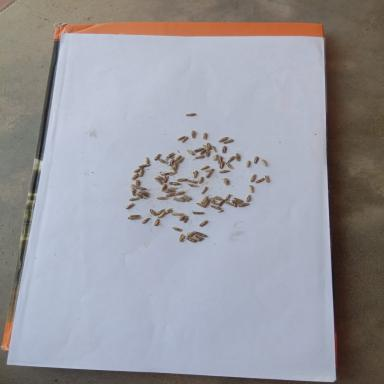pbw: (200, 195, 209, 204), (158, 170, 174, 175), (195, 231, 207, 237), (127, 214, 141, 219), (153, 177, 163, 184), (124, 202, 134, 209), (130, 172, 138, 180), (178, 233, 185, 242), (186, 230, 195, 237), (249, 173, 256, 182), (186, 236, 196, 242), (130, 187, 136, 197), (138, 167, 144, 177), (164, 188, 176, 193), (191, 210, 205, 214), (167, 181, 181, 185), (225, 162, 233, 169), (154, 153, 162, 160), (222, 177, 229, 185), (232, 197, 243, 202), (128, 196, 139, 201), (140, 190, 149, 196), (224, 200, 233, 206), (160, 183, 166, 192), (255, 177, 264, 183), (183, 194, 192, 200), (156, 208, 165, 214), (213, 194, 222, 200), (141, 217, 150, 223), (171, 212, 184, 216), (218, 136, 228, 141), (165, 207, 172, 214), (201, 186, 207, 194), (156, 196, 168, 200), (198, 176, 204, 184), (150, 208, 156, 216), (202, 132, 208, 140), (199, 220, 207, 226), (216, 156, 222, 164), (182, 215, 188, 223), (157, 212, 165, 218), (221, 145, 227, 153), (218, 169, 230, 173), (133, 166, 141, 172), (212, 153, 218, 161), (176, 178, 188, 182), (172, 197, 184, 201), (210, 197, 216, 205), (158, 158, 166, 164), (190, 130, 196, 138), (210, 144, 216, 152), (154, 217, 159, 226), (194, 234, 203, 239), (194, 147, 203, 152), (138, 163, 149, 167), (210, 205, 221, 209), (238, 202, 249, 206), (260, 159, 266, 166), (227, 156, 234, 162), (181, 136, 187, 143), (218, 200, 224, 207), (177, 156, 184, 162), (219, 161, 224, 169), (253, 156, 258, 164), (144, 156, 149, 164), (135, 186, 145, 190), (200, 165, 208, 170), (172, 227, 182, 231), (186, 149, 194, 154), (196, 202, 204, 207), (204, 168, 214, 172), (246, 194, 251, 202), (236, 150, 240, 160), (176, 190, 185, 194), (184, 113, 196, 116), (164, 176, 170, 182), (205, 171, 211, 177), (188, 179, 197, 183), (174, 155, 181, 160), (177, 135, 184, 140), (264, 175, 269, 182), (165, 193, 176, 196), (206, 142, 210, 150), (169, 158, 173, 166), (248, 184, 252, 192), (246, 160, 250, 168), (224, 139, 232, 143), (205, 148, 209, 156), (193, 170, 197, 178), (136, 179, 140, 187), (224, 194, 230, 199), (232, 201, 237, 207), (174, 160, 177, 170), (188, 183, 197, 186), (194, 156, 204, 158)
